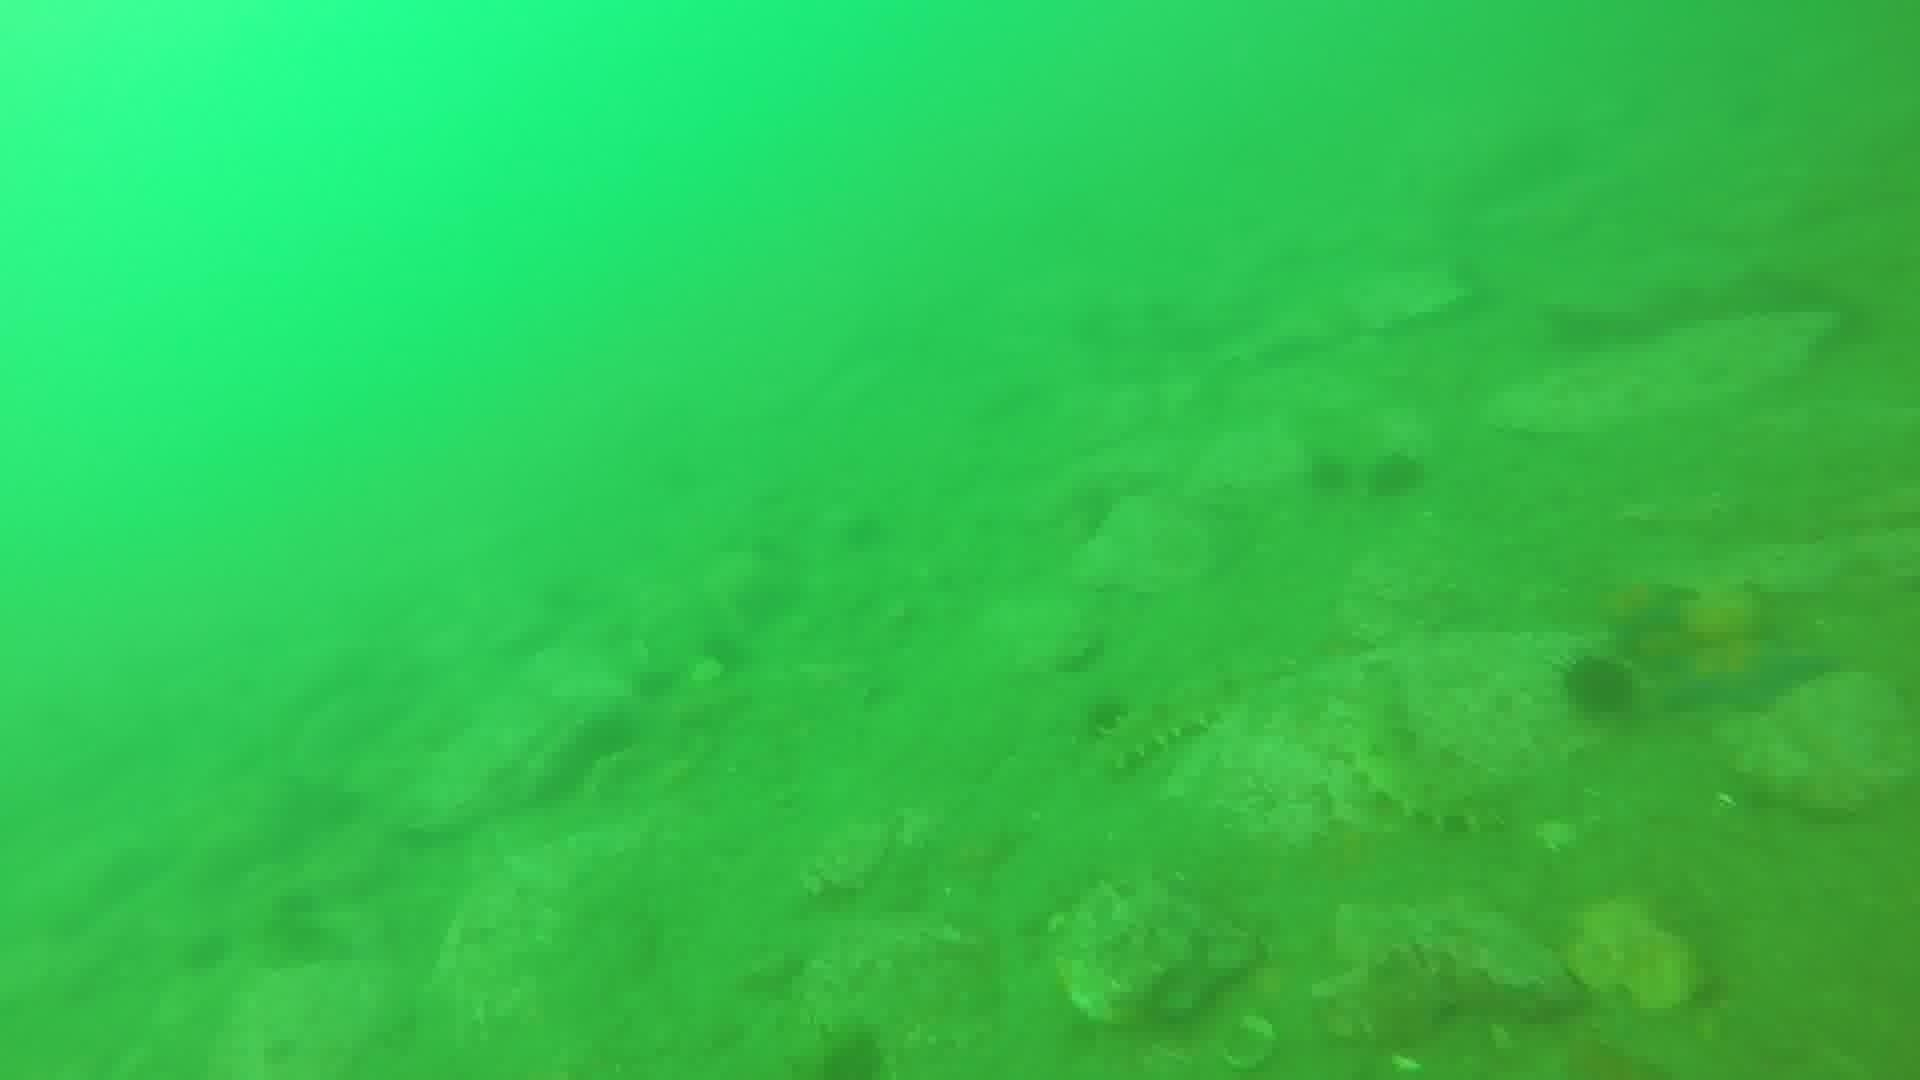echinus: (1556, 649, 1642, 724), (811, 1021, 894, 1080), (1362, 446, 1431, 505), (175, 924, 237, 978), (1300, 446, 1357, 501)
holothurian: (1338, 675, 1509, 837), (1089, 667, 1245, 778)
starfish: (1663, 626, 1834, 723), (1593, 571, 1700, 645)
